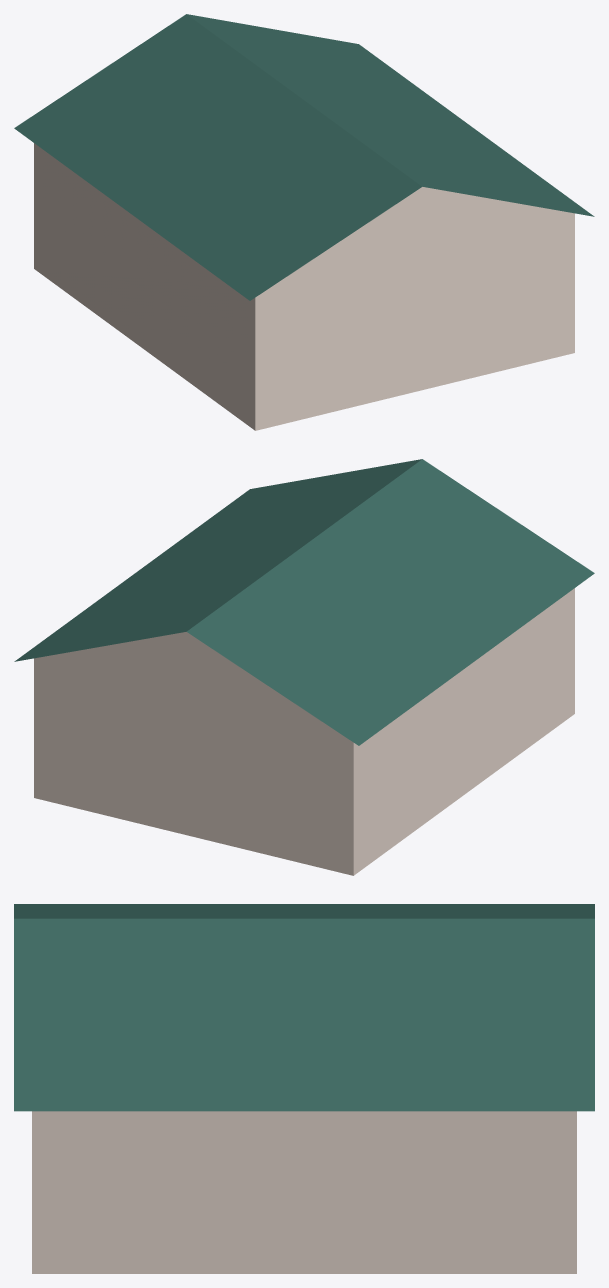
The model's file is far.fbx.
3 views of the same model, one above another, from view 1: azimuth 30°, elevation 25°; view 2: azimuth 150°, elevation 25°; view 3: azimuth 270°, elevation 25° (orthographic). The views are drawn at different scales.
Visible parts, largest first — view 1: a1096/0/far; view 2: a1096/0/far; view 3: a1096/0/far.
Part boxes in pixels (box(x1,y1,x2,y2)): a1096/0/far: box(14, 14, 594, 430); a1096/0/far: box(14, 459, 594, 875); a1096/0/far: box(14, 904, 594, 1273).
Size of the model in its own units: 10.8 by 6.3 by 12.8.
